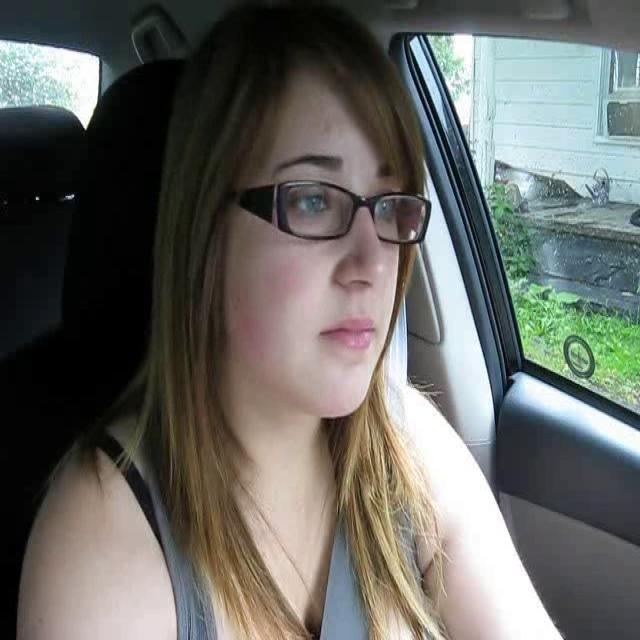close: (310, 310, 383, 354)
